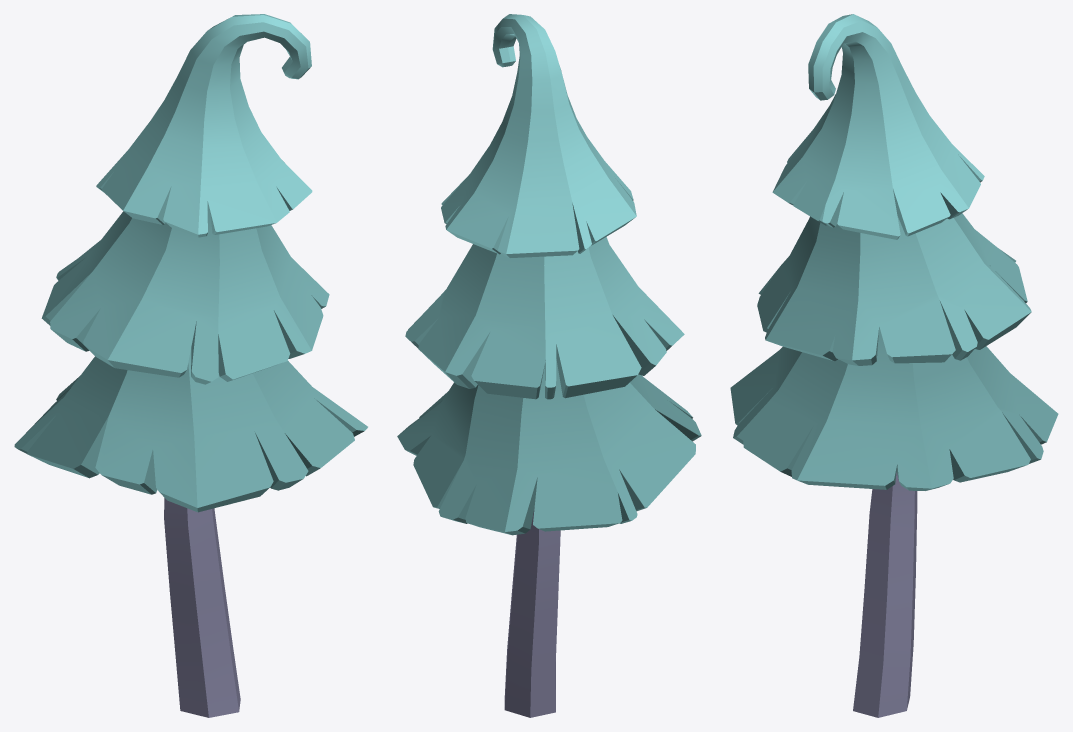
File: Mystic_Tree_S_A2.fbx
3 renders of one model, left to right at view 1: azimuth 30°, elevation 25°; view 2: azimuth 150°, elevation 25°; view 3: azimuth 270°, elevation 25°, orthographic. The views are drawn at different scales.
Parts seen in each view (by area): view 1: Mystic_Tree_S_A2; view 2: Mystic_Tree_S_A2; view 3: Mystic_Tree_S_A2.
Boxes of the visible parts, left/top/right/bottom form: Mystic_Tree_S_A2: left=14, top=14, right=367, bottom=717; Mystic_Tree_S_A2: left=397, top=14, right=701, bottom=717; Mystic_Tree_S_A2: left=730, top=14, right=1058, bottom=717.
Size of the model in its own units: 266 by 656 by 280.
